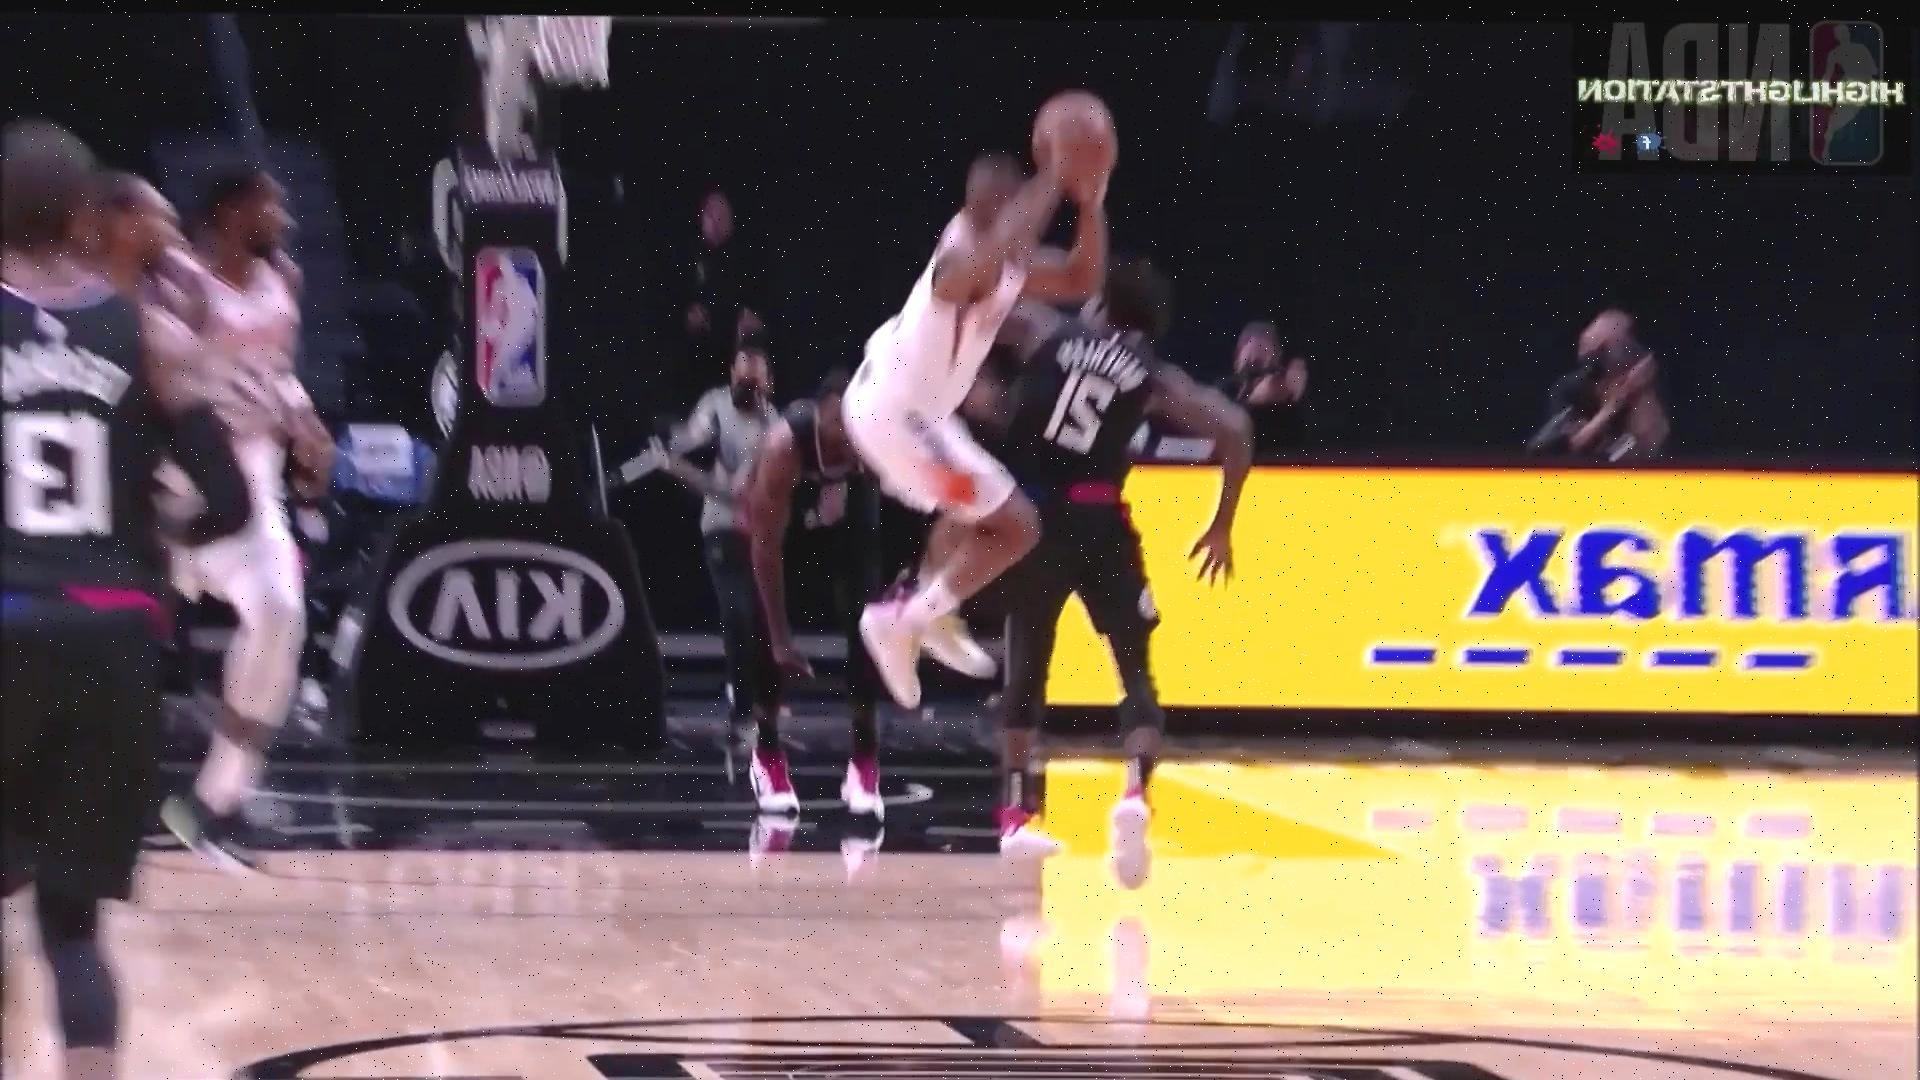foul: (841, 131, 1236, 878)
